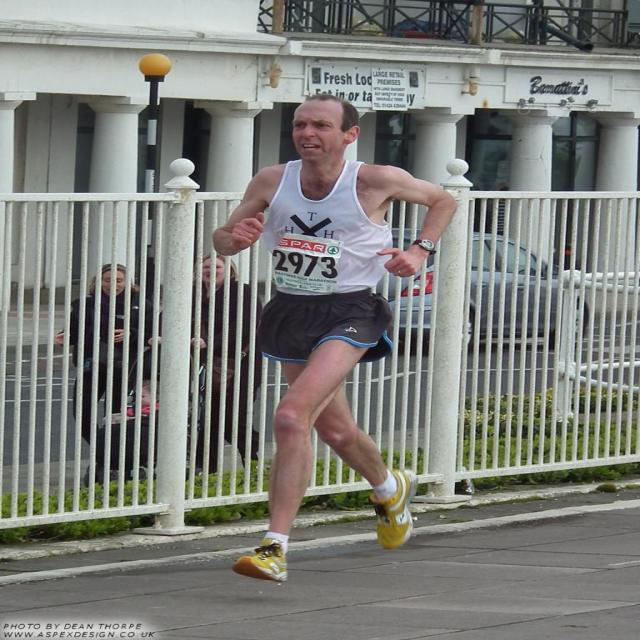Bib: (275, 249, 341, 278)
